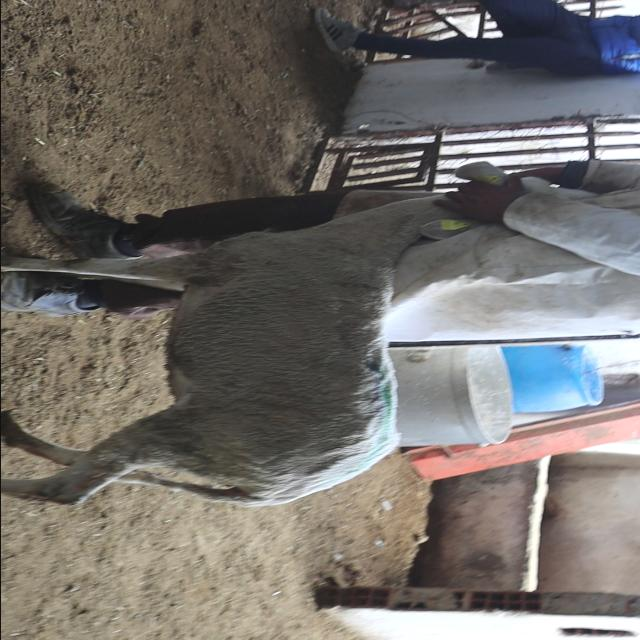Score_1: (1, 194, 480, 506)
